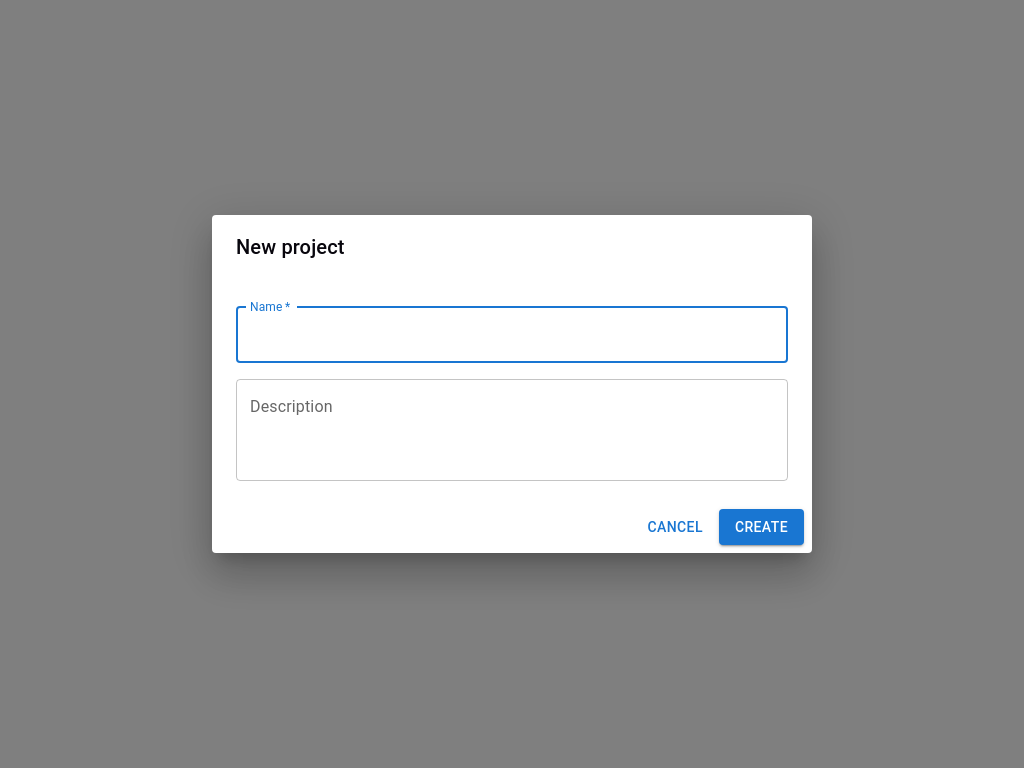
Test: CreateProjectDialog › shows validation error when name is empty
Step 1. Click the button with aria-label "create project" → (761, 527), box [719,509,804,545]
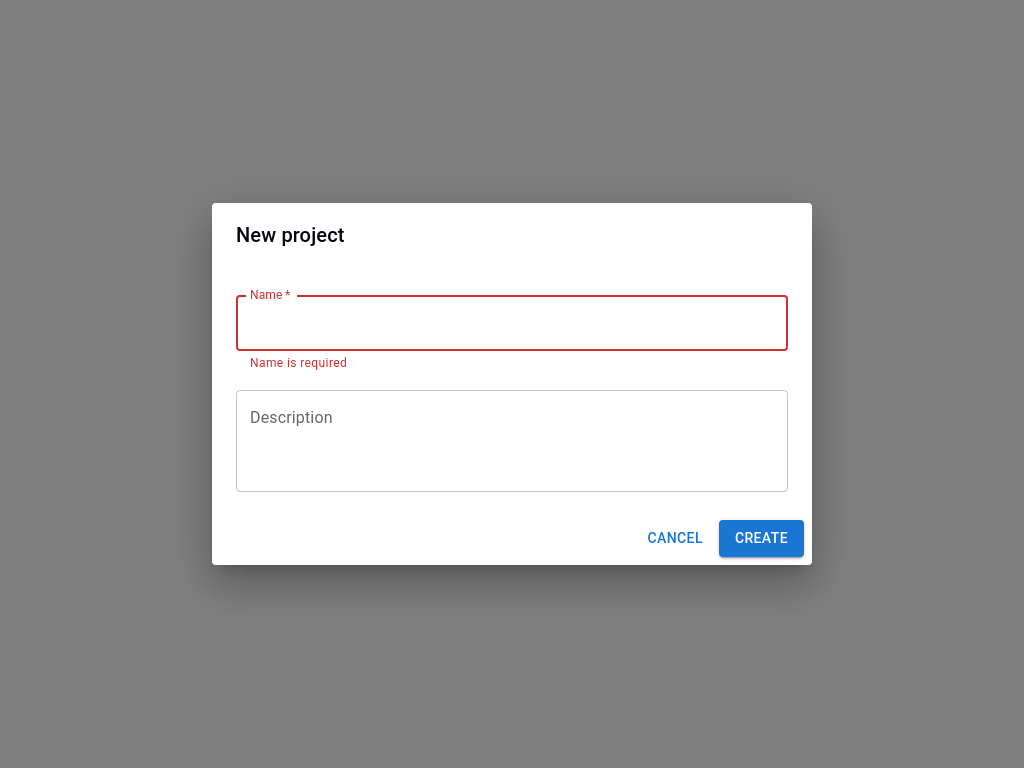
Check: the text "Name is required" is shown, box [250,356,347,370]
